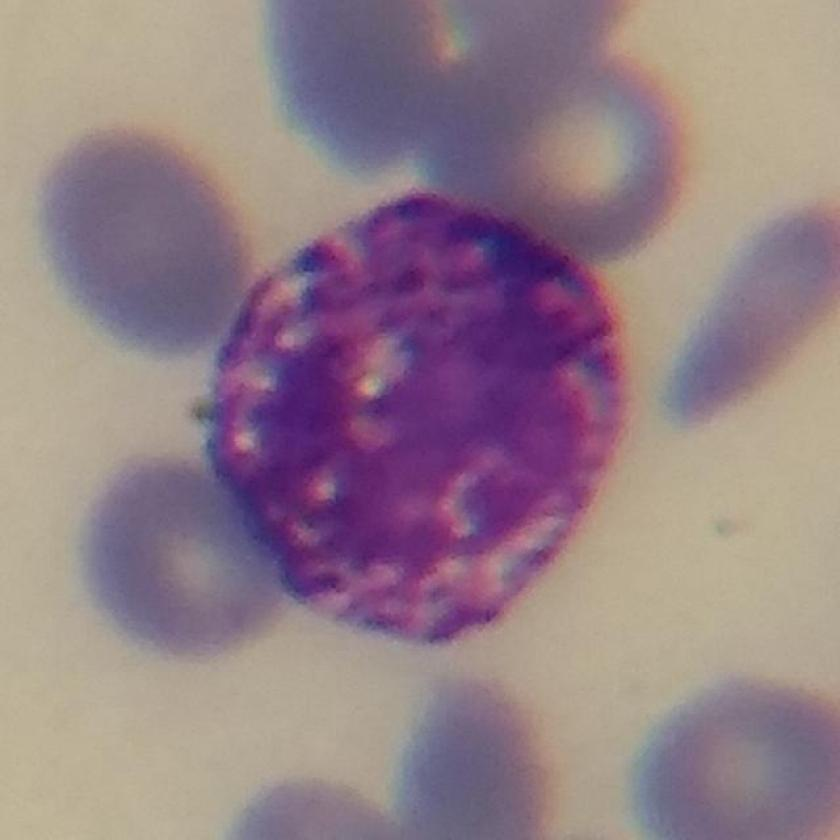basophil: (193, 178, 653, 657)
